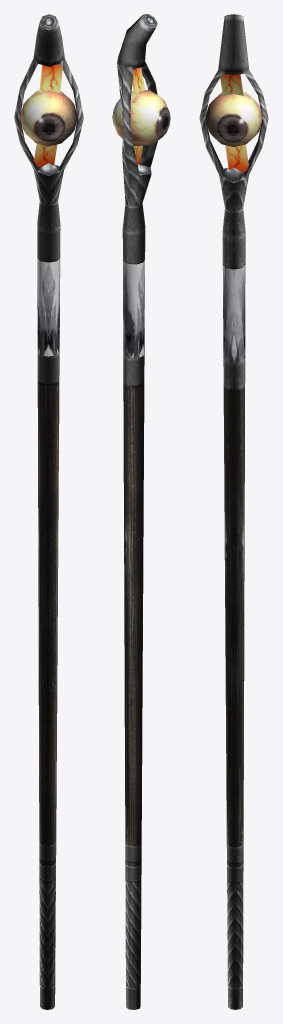
File: rank_jang_2_W.glb
3 views of the same model, side by side, from view 1: azimuth 90°, elevation 25°; view 2: azimuth 150°, elevation 25°; view 3: azimuth 270°, elevation 25° (orthographic).
Visible parts, largest first — view 1: weapon; view 2: weapon; view 3: weapon.
Part boxes in pixels (left/top/right/bottom): weapon: left=14, top=14, right=83, bottom=1009; weapon: left=112, top=14, right=170, bottom=1009; weapon: left=199, top=14, right=268, bottom=1009.
Size of the model in its own units: 0.7966 by 14.99 by 0.95.
Materials: 1 (1 with a texture image).
